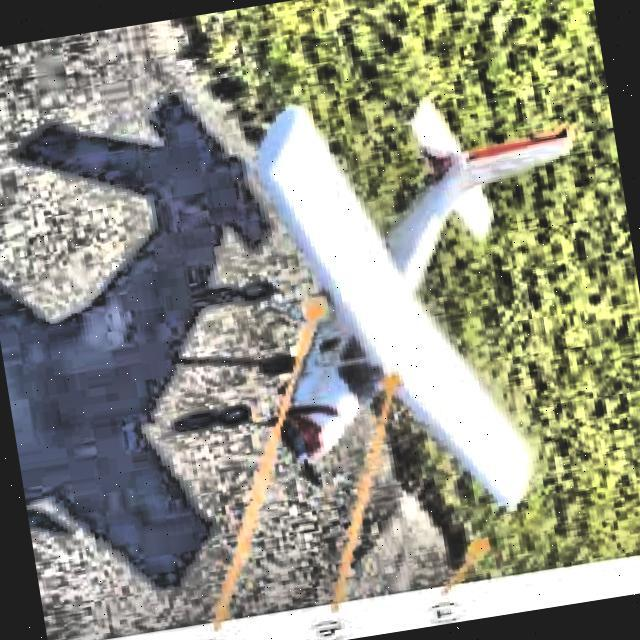iha: (206, 57, 640, 558)
